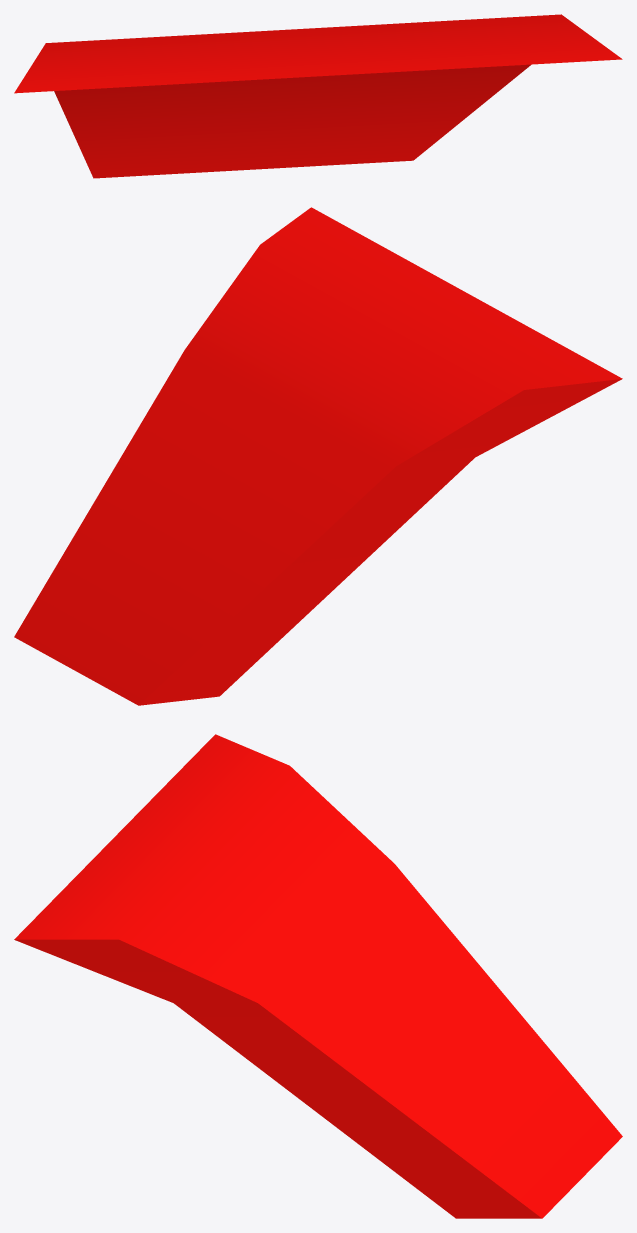
File: flower1_particle.fbx
3 renders of one model, top to bottom at view 1: azimuth 30°, elevation 25°; view 2: azimuth 150°, elevation 25°; view 3: azimuth 270°, elevation 25°, orthographic. The views are drawn at different scales.
Visible parts, largest first — view 1: Cone_2; view 2: Cone_2; view 3: Cone_2.
Boxes of the visible parts, bbox=[...] form: Cone_2: bbox=[14, 14, 622, 178]; Cone_2: bbox=[14, 207, 622, 705]; Cone_2: bbox=[14, 734, 622, 1218].
Bounding box in the file's own units: 17.02 × 9.09 × 19.4.
